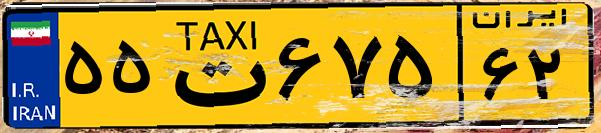2: (525, 38, 570, 115)
5: (385, 28, 445, 110), (57, 26, 110, 100), (110, 28, 158, 98)
6: (270, 28, 330, 110), (475, 38, 525, 113)
7: (330, 28, 385, 110)
ت: (158, 12, 270, 120)
